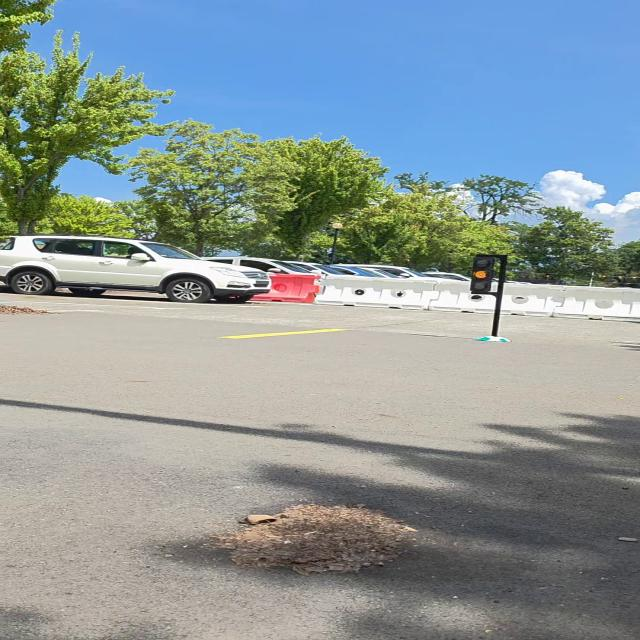yellow: (470, 257, 494, 292)
